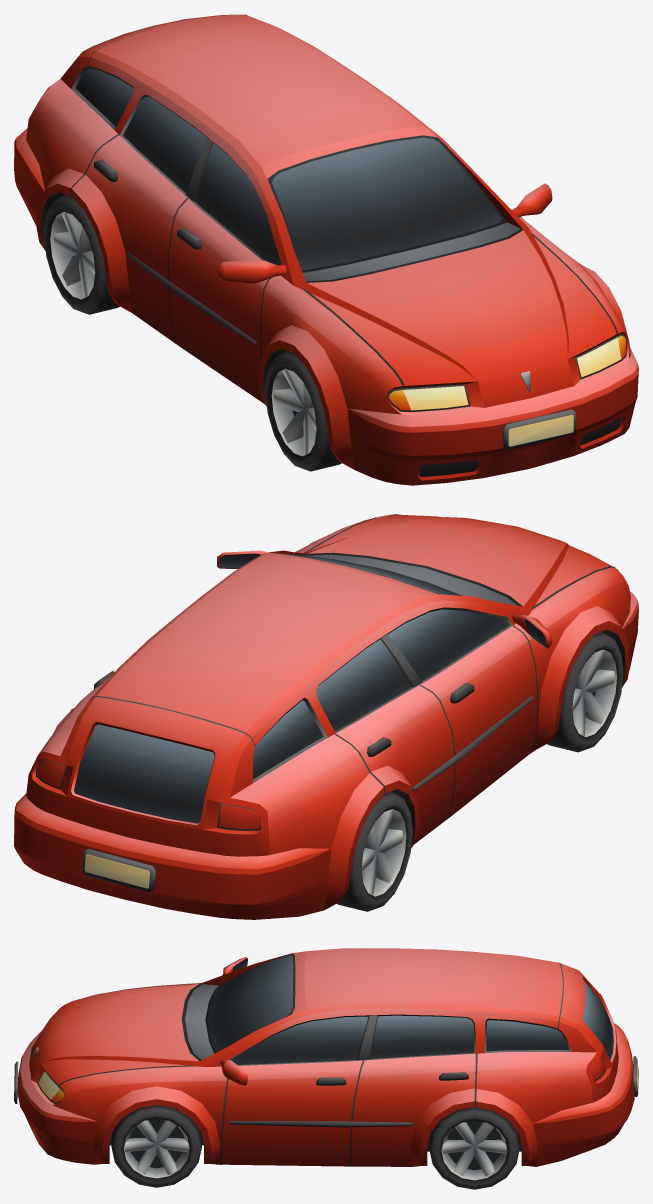
The model's file is Car_14D.fbx.
3 renders of one model, top to bottom at view 1: azimuth 30°, elevation 25°; view 2: azimuth 150°, elevation 25°; view 3: azimuth 270°, elevation 25°, orthographic. The views are drawn at different scales.
Visible parts, largest first — view 1: Car_14D, Wheel_14D_F.R, Wheel_14D_R.R; view 2: Car_14D, Wheel_14D_F.R, Wheel_14D_R.R; view 3: Car_14D, Wheel_14D_F.L, Wheel_14D_R.L.
Boxes of the visible parts, x1=… form: Car_14D: x1=14, y1=14, x2=638, y2=485; Wheel_14D_F.R: x1=265, y1=351, x2=341, y2=471; Wheel_14D_R.R: x1=44, y1=194, x2=119, y2=314; Car_14D: x1=14, y1=514, x2=638, y2=919; Wheel_14D_F.R: x1=547, y1=632, x2=623, y2=752; Wheel_14D_R.R: x1=337, y1=791, x2=412, y2=911; Car_14D: x1=14, y1=948, x2=638, y2=1166; Wheel_14D_F.L: x1=111, y1=1105, x2=201, y2=1187; Wheel_14D_R.L: x1=429, y1=1107, x2=519, y2=1189.
Bounding box in the file's own units: 265 × 170 × 584.
